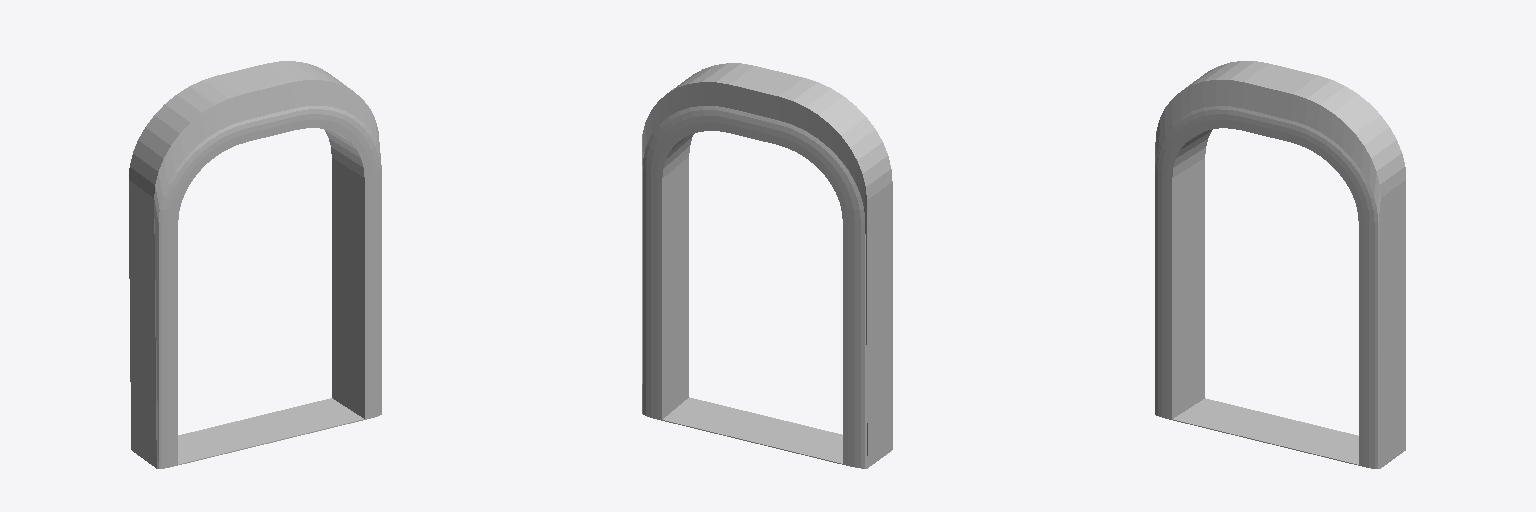
The model's file is Door.obj.
The picture shows the model from 3 angles: view 1: azimuth 30°, elevation 25°; view 2: azimuth 150°, elevation 25°; view 3: azimuth 330°, elevation 25°; orthographic projection.
Parts seen in each view (by area): view 1: Cube; view 2: Cube; view 3: Cube.
Part boxes in pixels (left/top/right/bottom): Cube: left=129, top=61, right=381, bottom=468; Cube: left=642, top=63, right=892, bottom=468; Cube: left=1155, top=61, right=1405, bottom=468.
Bounding box in the file's own units: 2.25 × 3.34 × 0.5132.